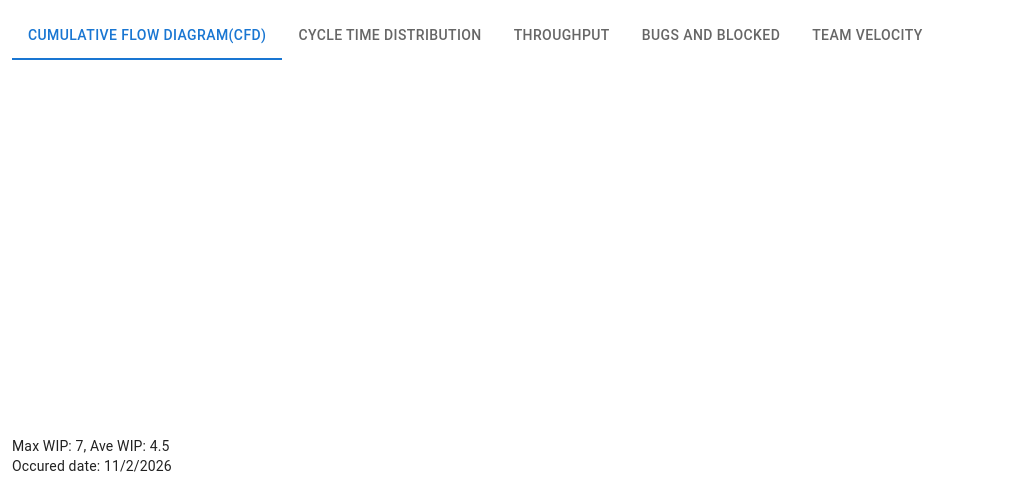
Test case: cycle-time chart shows the % bars, days line and average summary
Click the tab with test id "metrics-tab-cycleTime": (390, 36) left=282, top=12, right=498, bottom=60
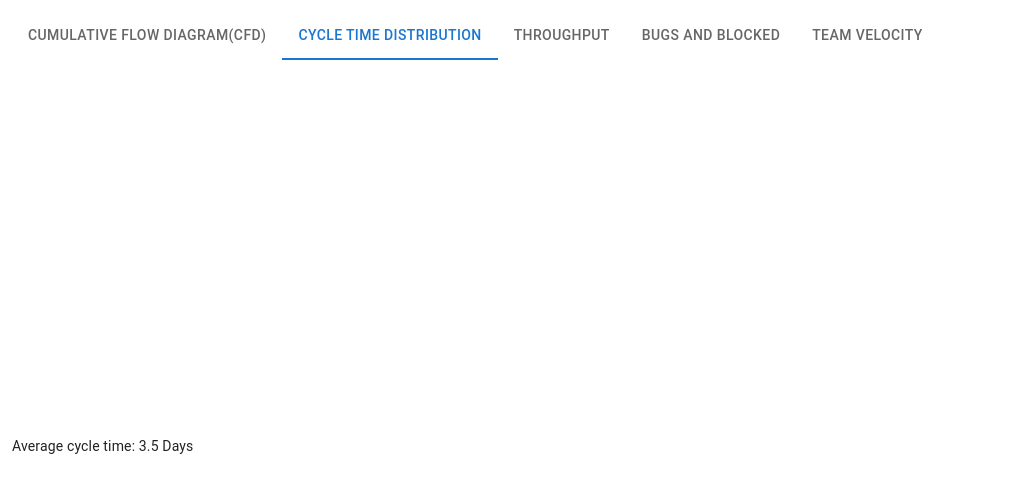
Expected: the element with test id "metrics-summary" reads "Average cycle time: 3.5 Days", left=12, top=438, right=194, bottom=454
